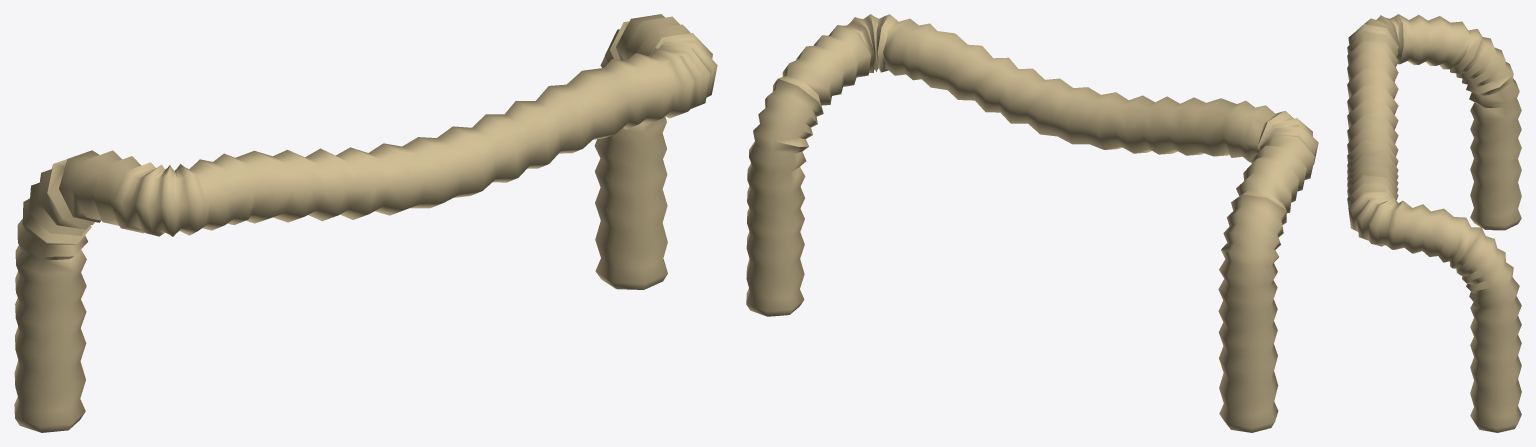
File: Big Intestine.fbx
3 renders of one model, left to right at view 1: azimuth 30°, elevation 25°; view 2: azimuth 150°, elevation 25°; view 3: azimuth 270°, elevation 25°, orthographic. The views are drawn at different scales.
Visible parts, largest first — view 1: Symmetry_1; view 2: Symmetry_1; view 3: Symmetry_1.
Part boxes in pixels (x1,y1,x2,y2): Symmetry_1: (14, 14, 717, 432); Symmetry_1: (746, 14, 1318, 432); Symmetry_1: (1347, 14, 1521, 432).
Size of the model in its own units: 38.02 by 16.96 by 12.51.
